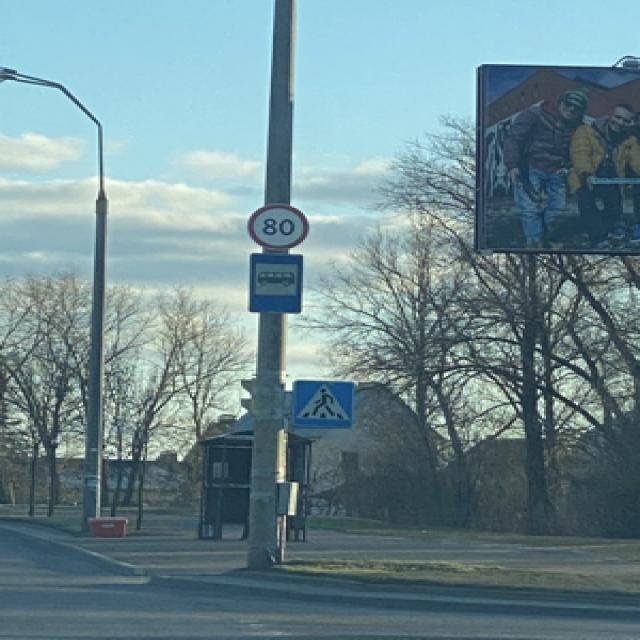crosswalk: (290, 378, 352, 426)
speedlimit: (243, 202, 307, 246)
